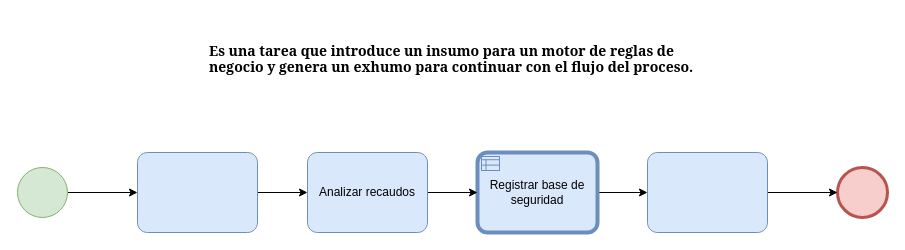
This 905x250 diagram has some shape labels left out. Here are the shapes that lost their labels. From the top down, the centre of each, then its label:
At [197,192]: "Recibir recaudos de crédito".
At [707,192]: "Devolver respuesta por correo".
